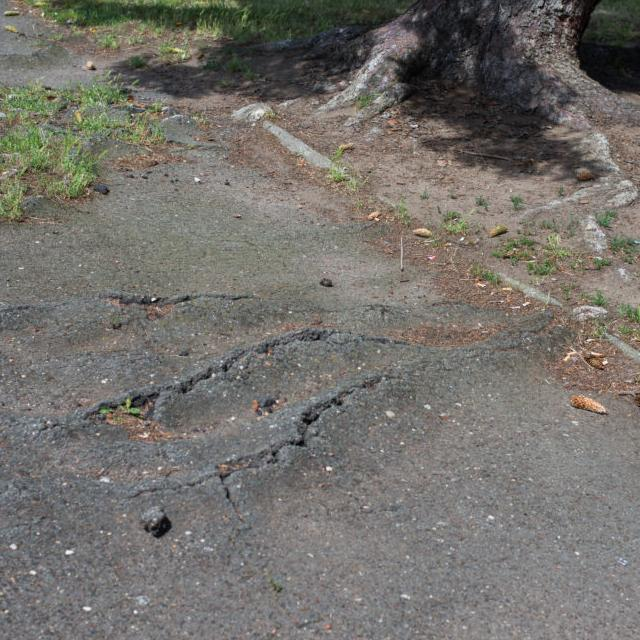retak_memanjang: (143, 378, 413, 513), (40, 329, 318, 404), (7, 256, 272, 319)
